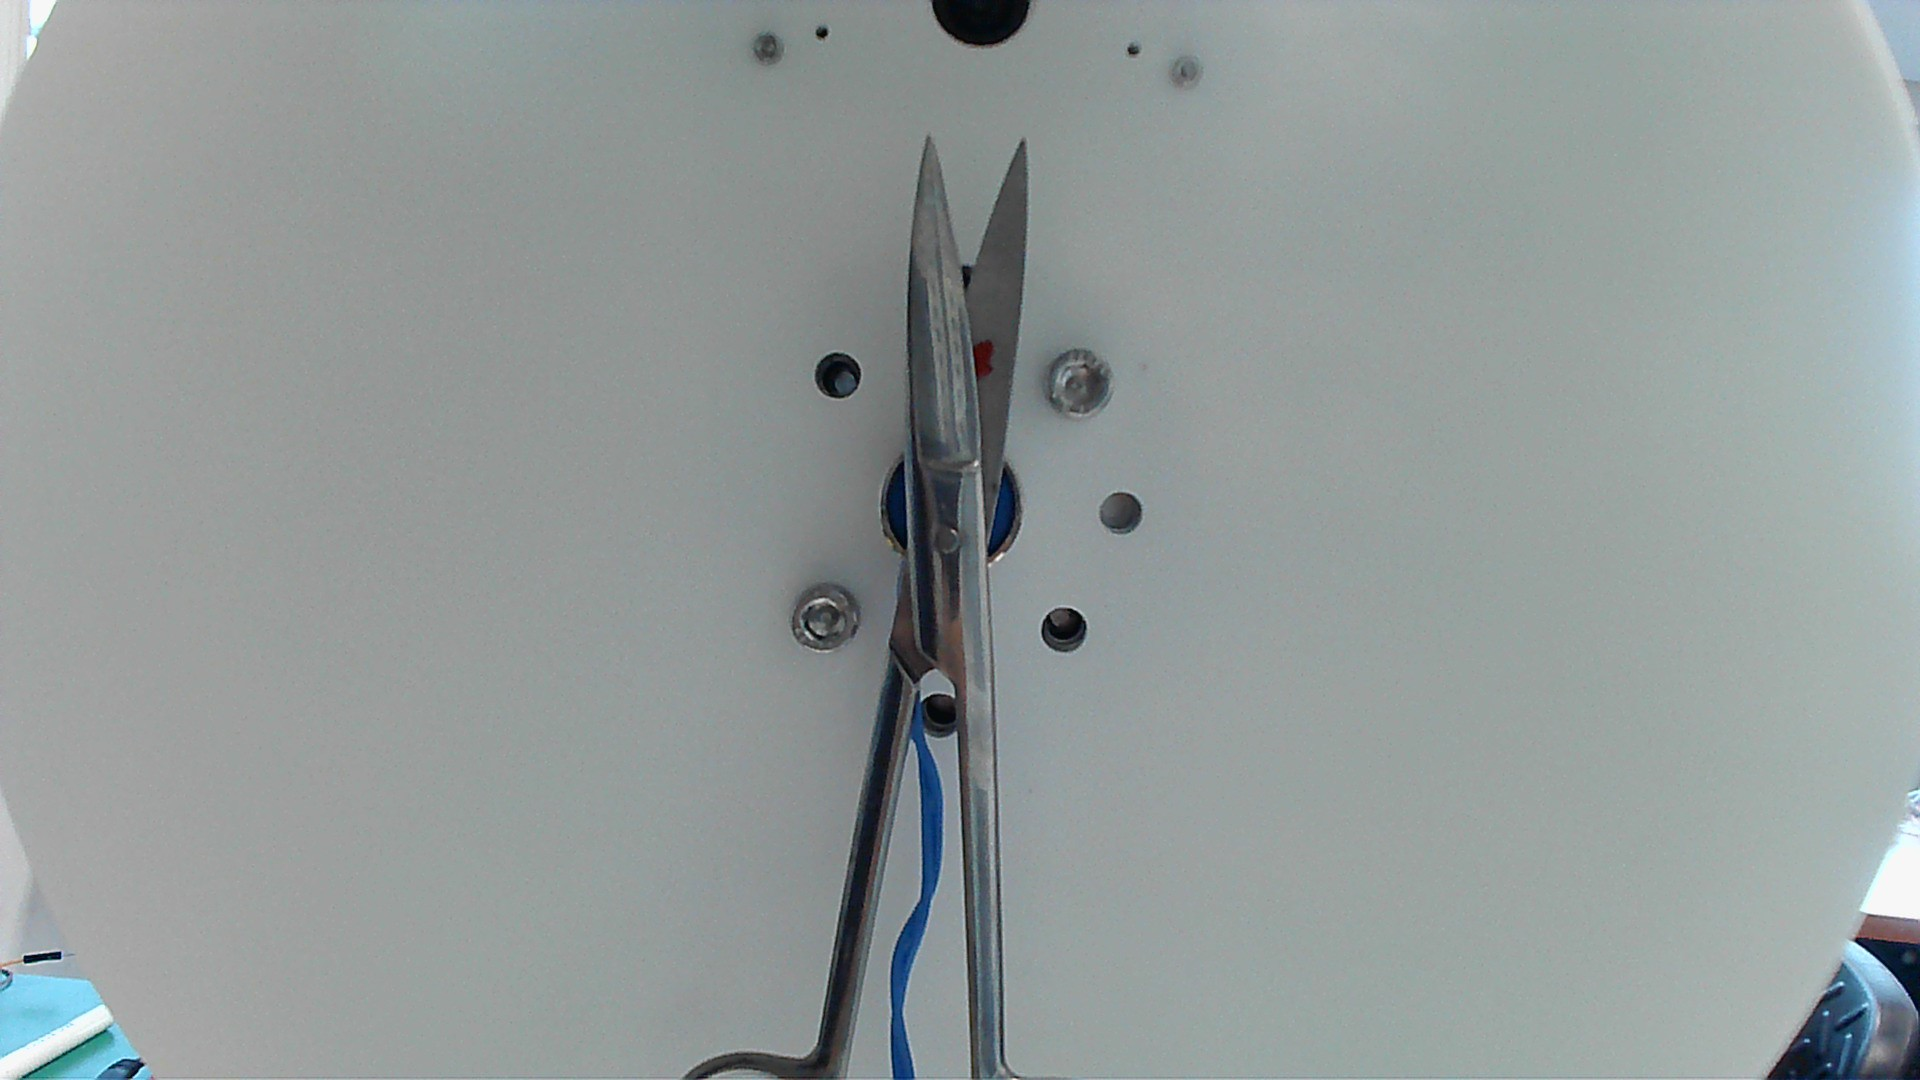Tissues: (965, 330, 1006, 389)
